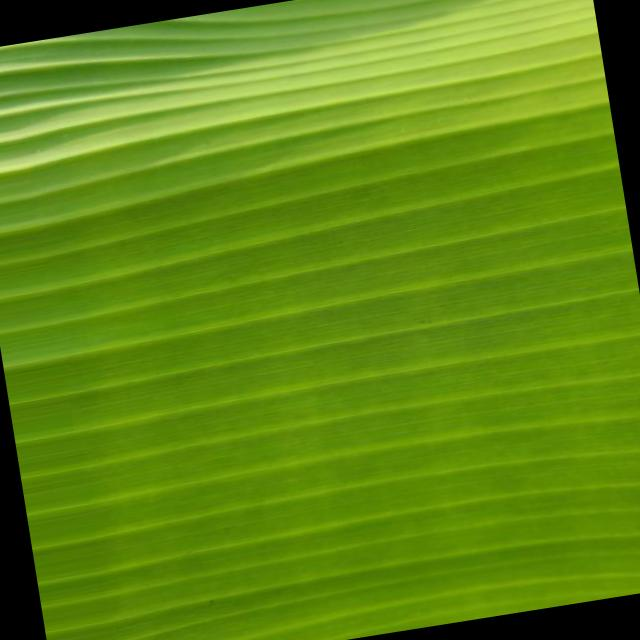Banana_Healthy: (102, 115, 594, 594)
